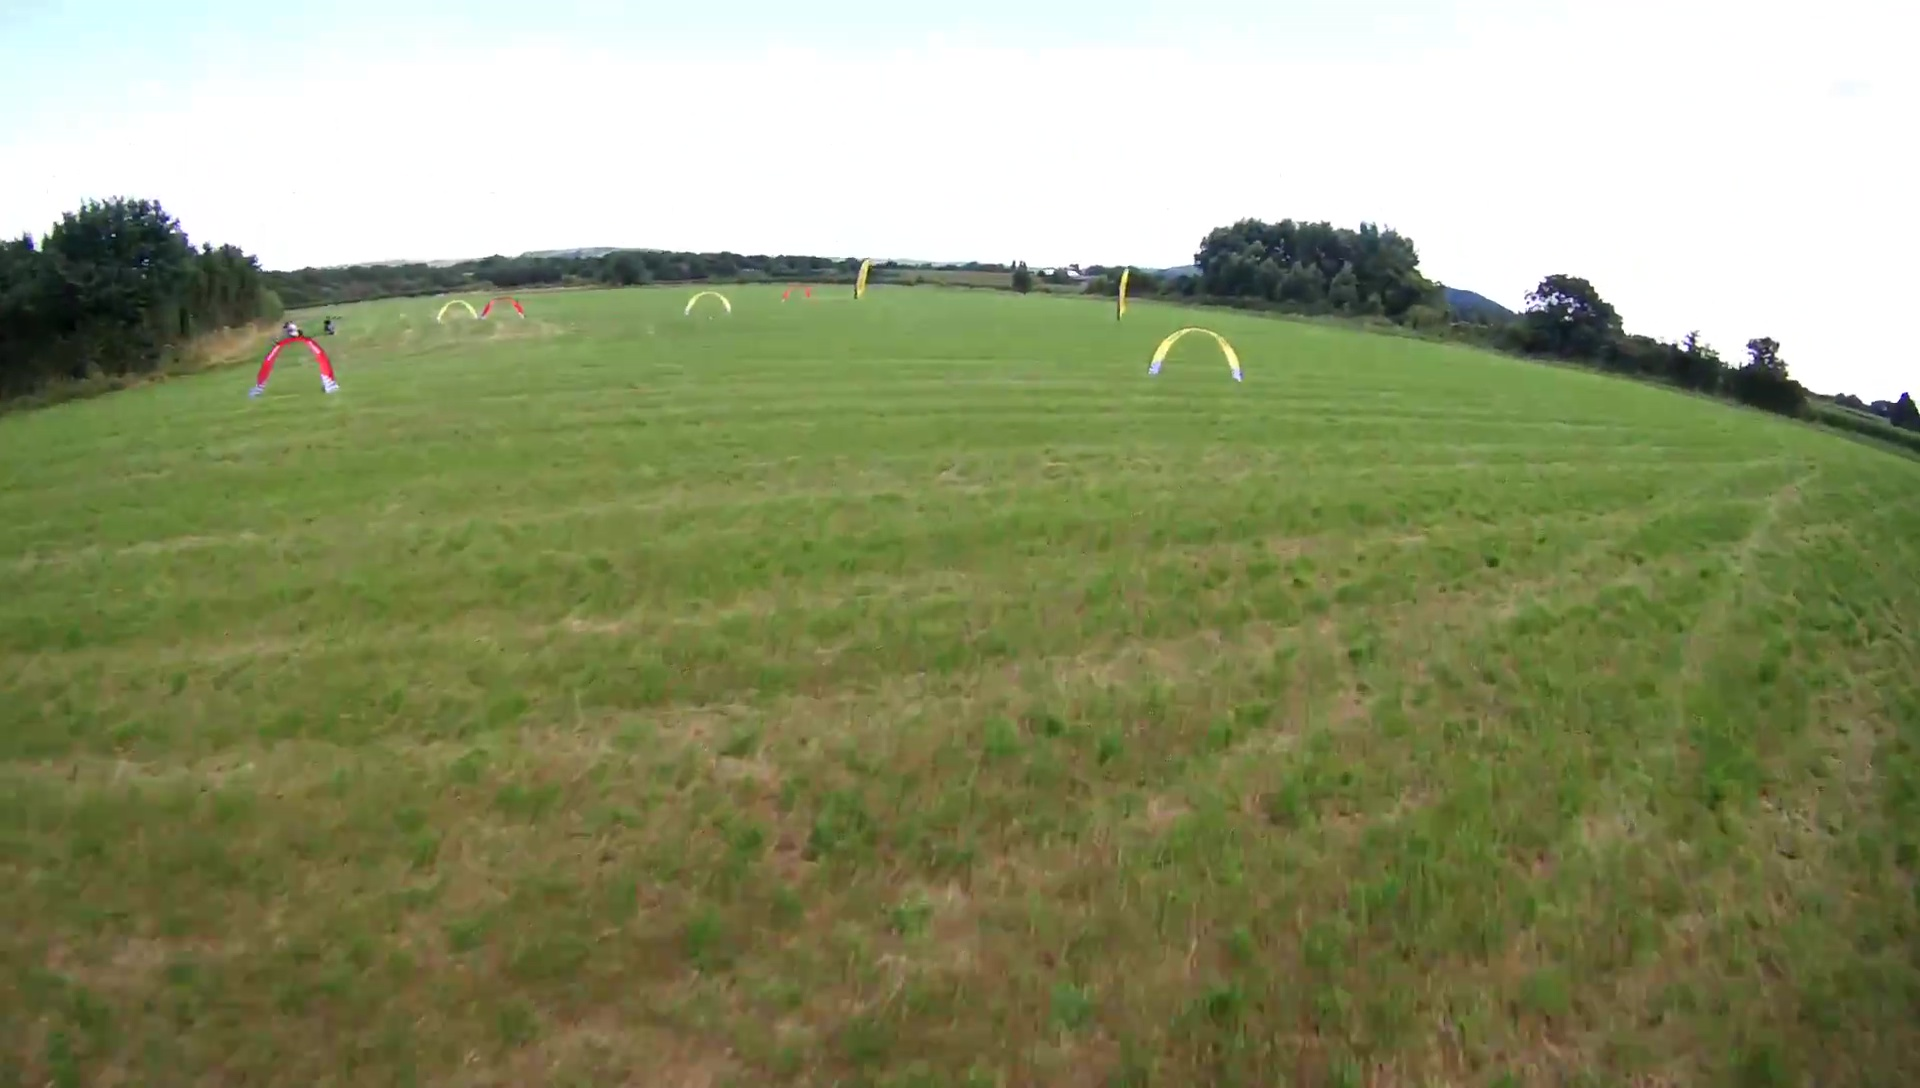gate: (251, 334, 342, 400), (1149, 328, 1242, 380), (680, 289, 735, 319), (477, 291, 527, 319), (433, 297, 479, 326)
